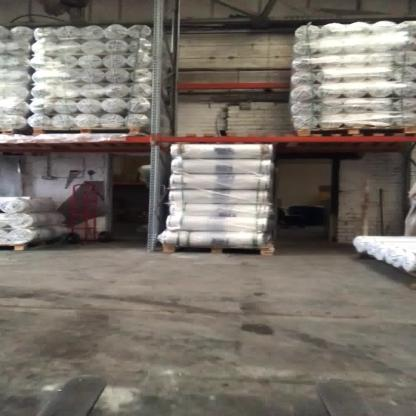vertical_damage: (142, 234, 164, 257)
